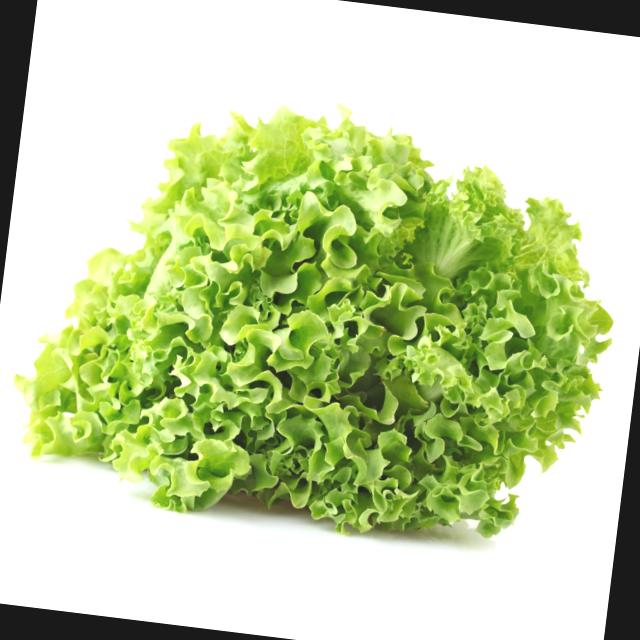inmadura: (17, 107, 612, 536)
